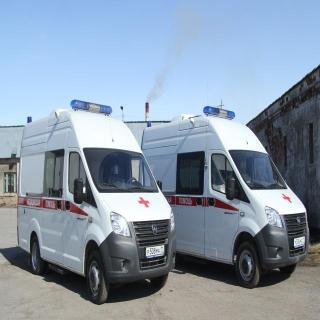Ambulance: (13, 86, 191, 316)
